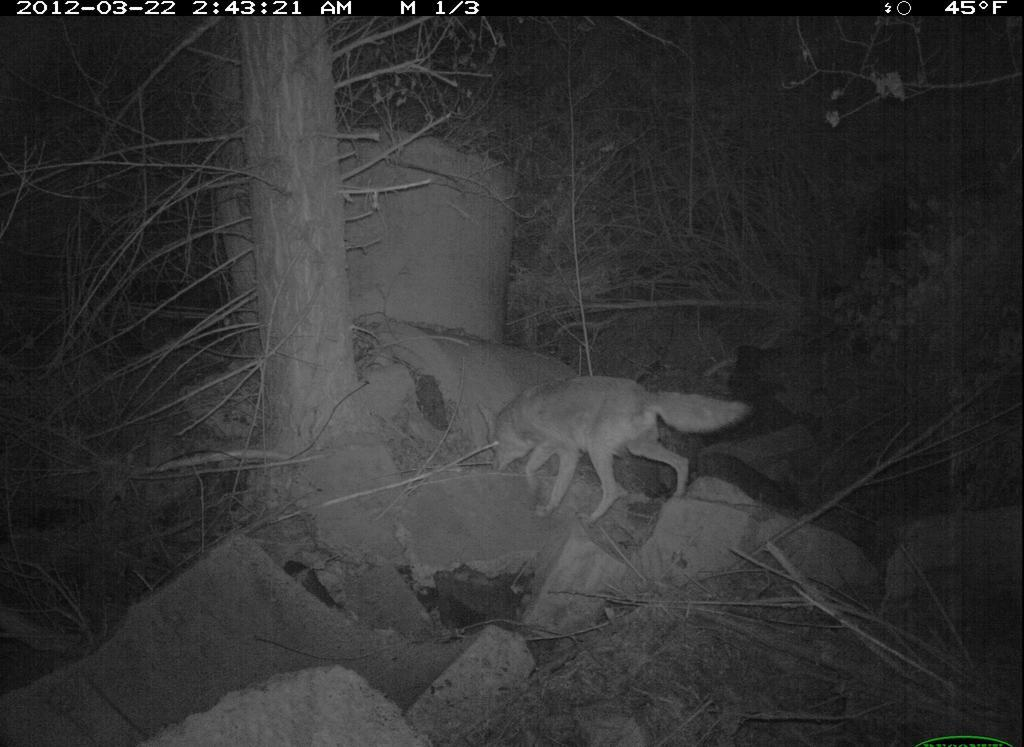coyote: (481, 374, 752, 519)
